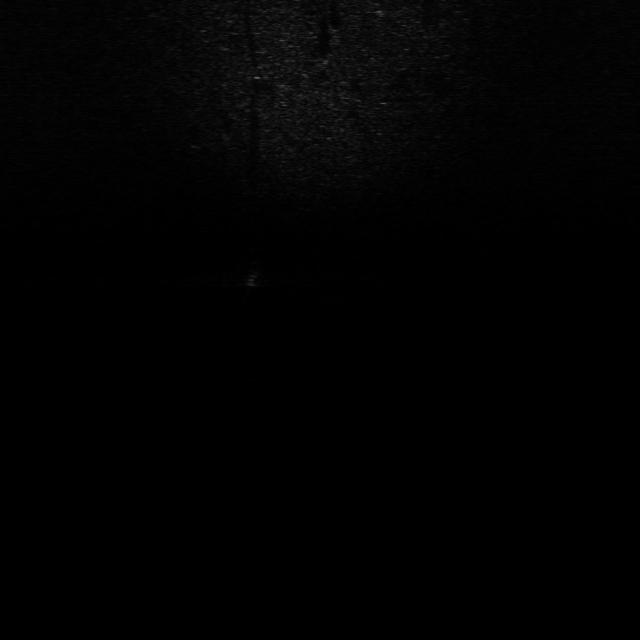human body: (238, 260, 266, 303)
